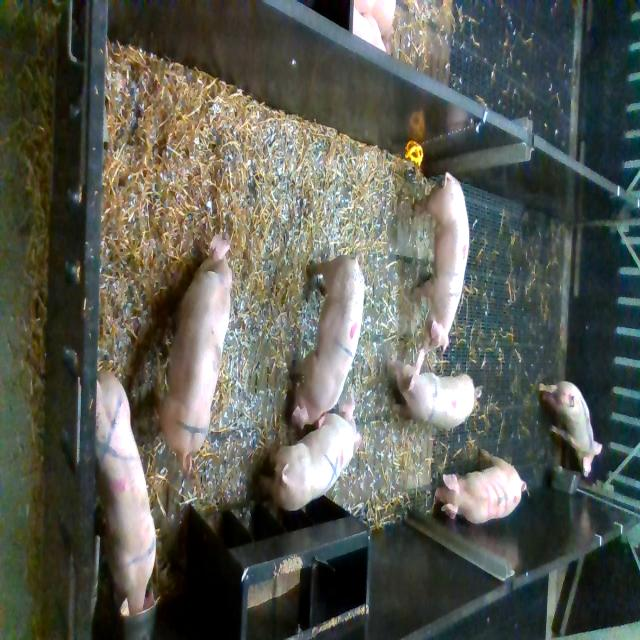pig: (160, 234, 233, 477), (95, 370, 160, 616), (291, 252, 365, 429), (260, 402, 365, 511), (410, 172, 469, 355), (436, 449, 526, 524), (539, 381, 602, 477), (392, 361, 482, 428)
